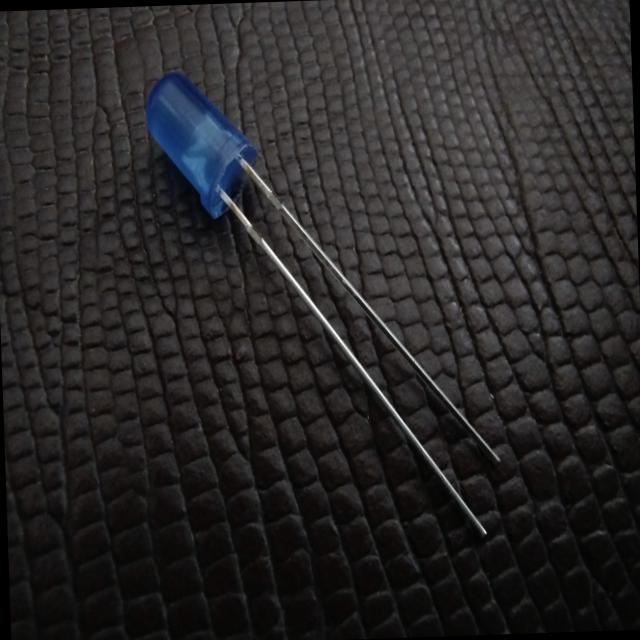blue_led: (142, 65, 260, 222)
